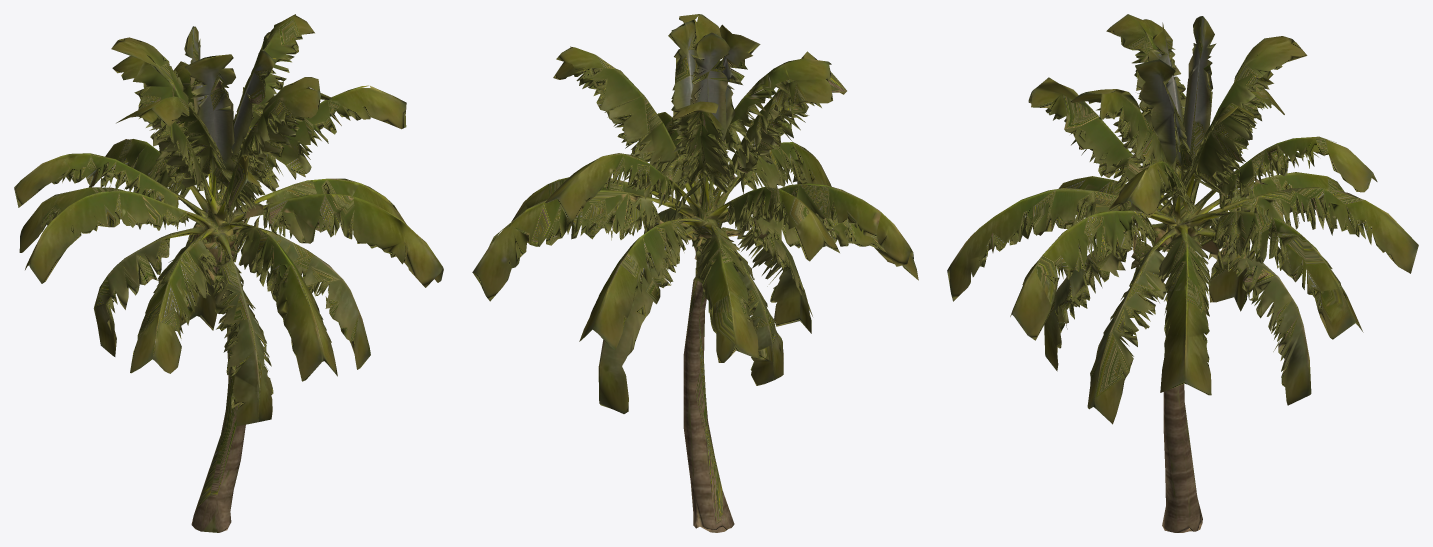
The model's file is beach-palm.glb.
3 renders of one model, left to right at view 1: azimuth 30°, elevation 25°; view 2: azimuth 150°, elevation 25°; view 3: azimuth 270°, elevation 25°, orthographic. The views are drawn at different scales.
Parts seen in each view (by area): view 1: world; view 2: world; view 3: world.
Boxes of the visible parts, x1,y1,x2,y2 form: world: (14,14,443,532); world: (472,14,918,532); world: (947,14,1418,532).
Size of the model in its own units: 0.8296 by 0.9984 by 0.842.
Materials: 1 (1 with a texture image).
